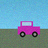vehicle: (18, 21, 40, 37)
